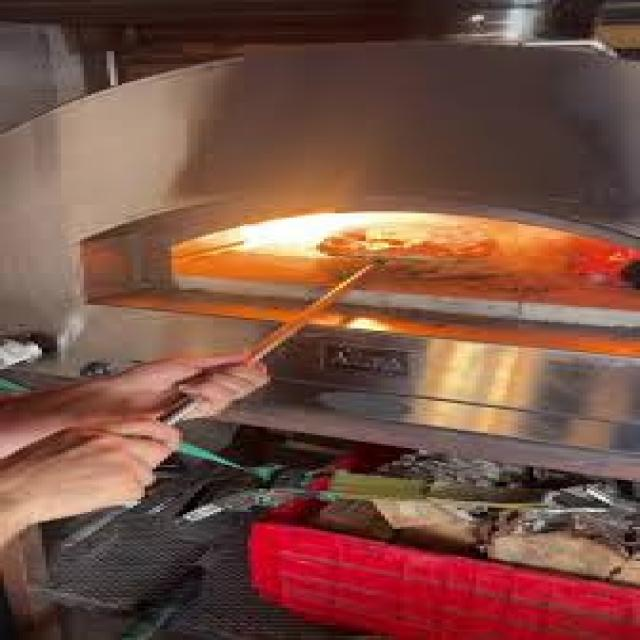fire: (207, 210, 461, 257)
